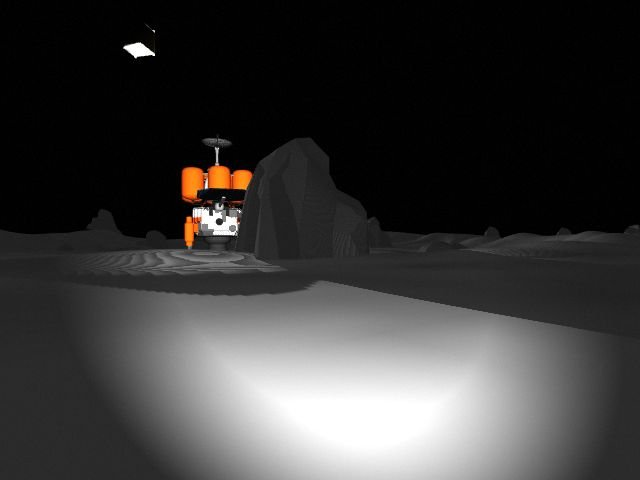cubesat: (115, 15, 171, 65)
